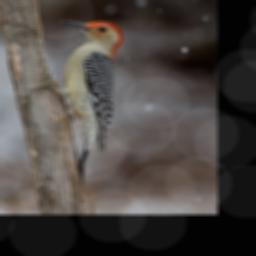Woodpecker: (24, 19, 123, 181)
